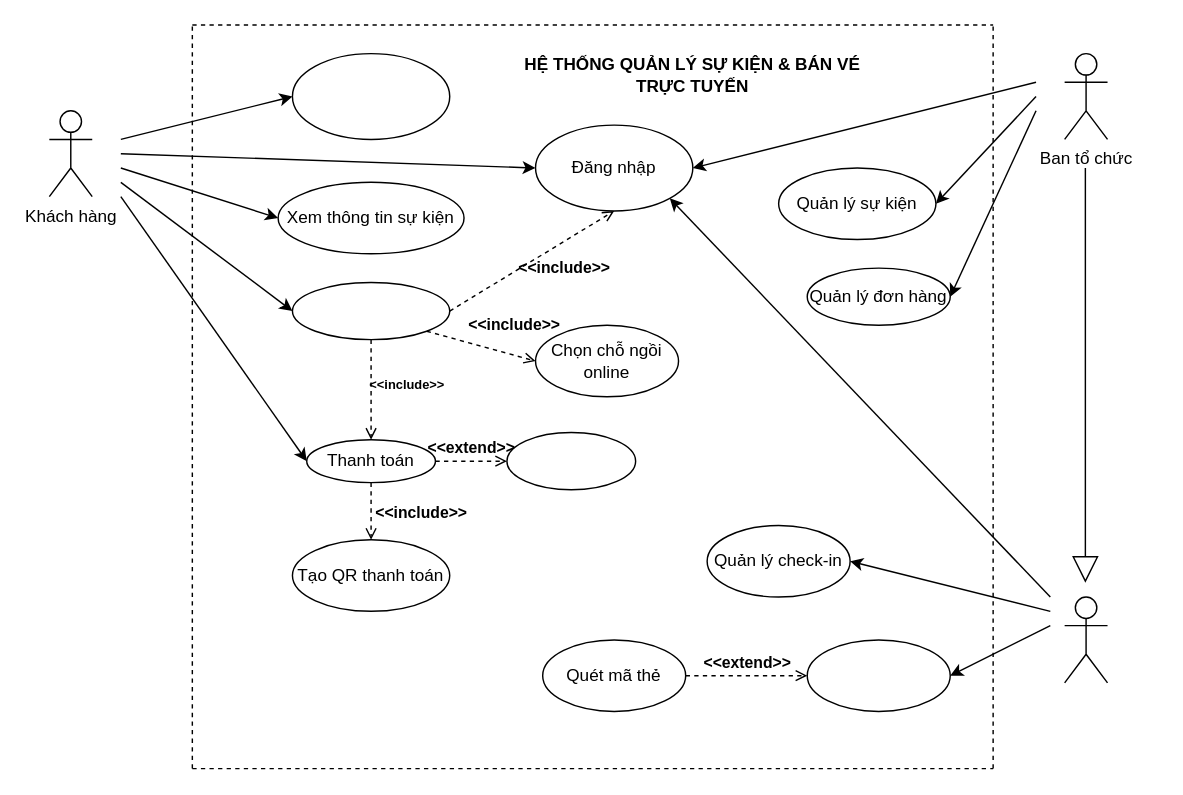
The diagram is 1183 pixels wide and 795 high, and some of its shapes have lost their labels. Each missing label, with the box of its shape:
Check-in offline: (806, 638, 950, 711)
Nhân viên check-in: (1063, 596, 1108, 683)
Thanh toán lại: (506, 431, 636, 490)
Đăng ký tài khoản: (291, 52, 450, 139)
Đặt vé: (291, 281, 450, 340)
